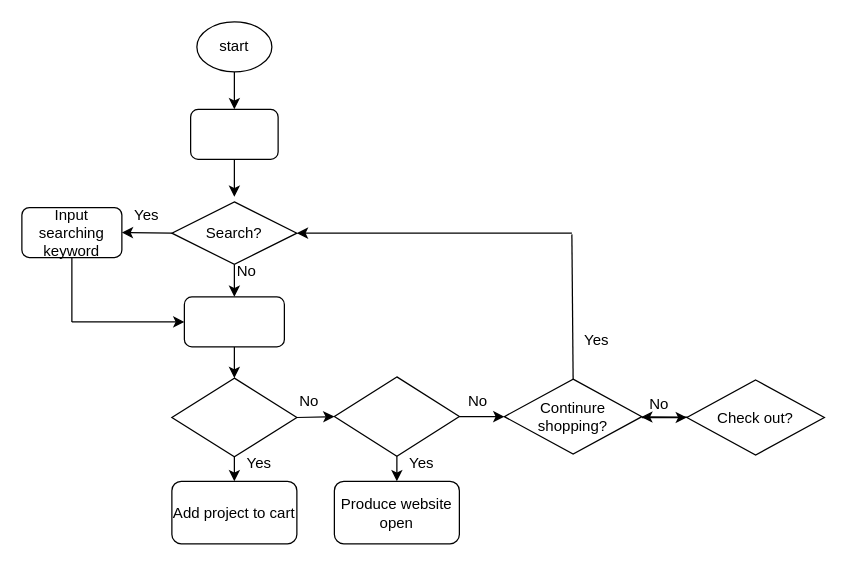
This 846x566 diagram has some shape labels left out. The shapes that lost their labels are listed below. From the top down, each one's centre as x and y in pixels, then its label:
the point at 233,133: User arrives
the point at 233,321: Exploring products
the point at 234,417: Add product?
the point at 396,416: View product?
